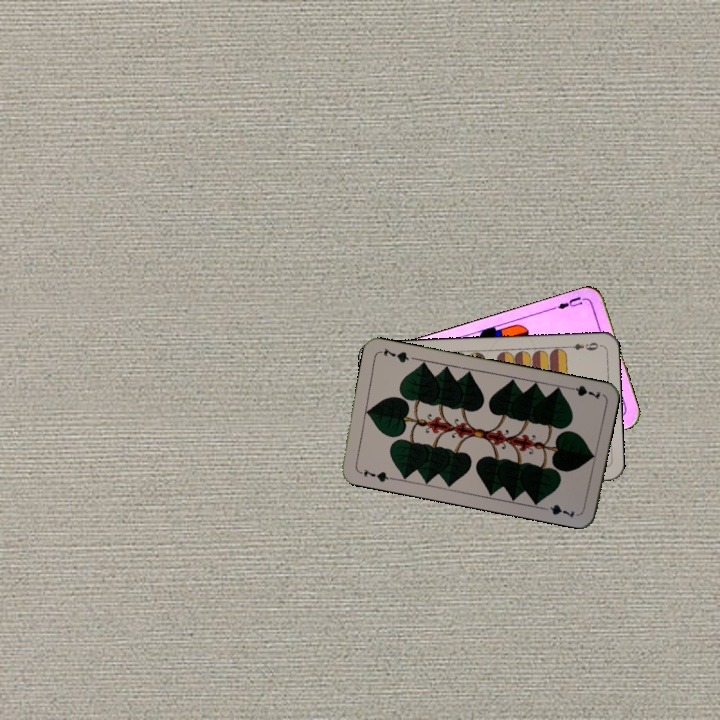E9: (562, 338, 602, 353)
EU: (549, 292, 589, 312)
G7: (563, 381, 603, 402), (354, 465, 395, 485)
